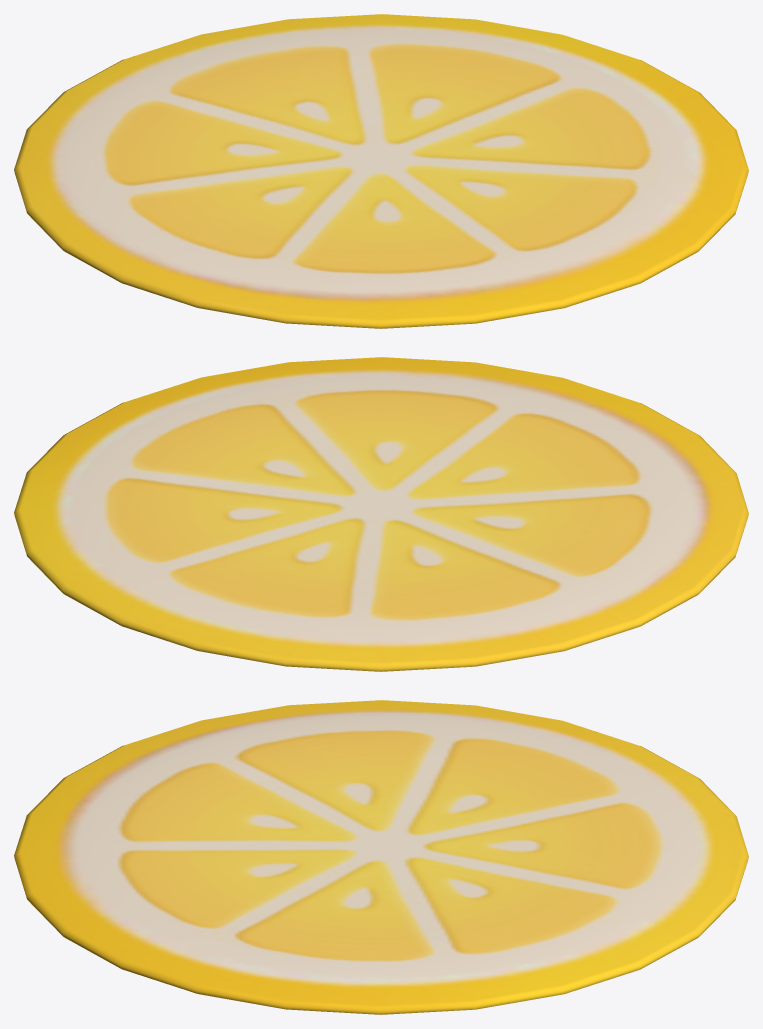
The model's file is Homestead_nm_11.fbx.
3 renders of one model, top to bottom at view 1: azimuth 30°, elevation 25°; view 2: azimuth 150°, elevation 25°; view 3: azimuth 270°, elevation 25°, orthographic.
Parts seen in each view (by area): view 1: Homestead_nm_11; view 2: Homestead_nm_11; view 3: Homestead_nm_11.
Part boxes in pixels (x1,y1,x2,y2): Homestead_nm_11: [14, 14, 748, 328]; Homestead_nm_11: [14, 357, 748, 671]; Homestead_nm_11: [14, 700, 748, 1014].
Size of the model in its own units: 297 by 6.06 by 297.
